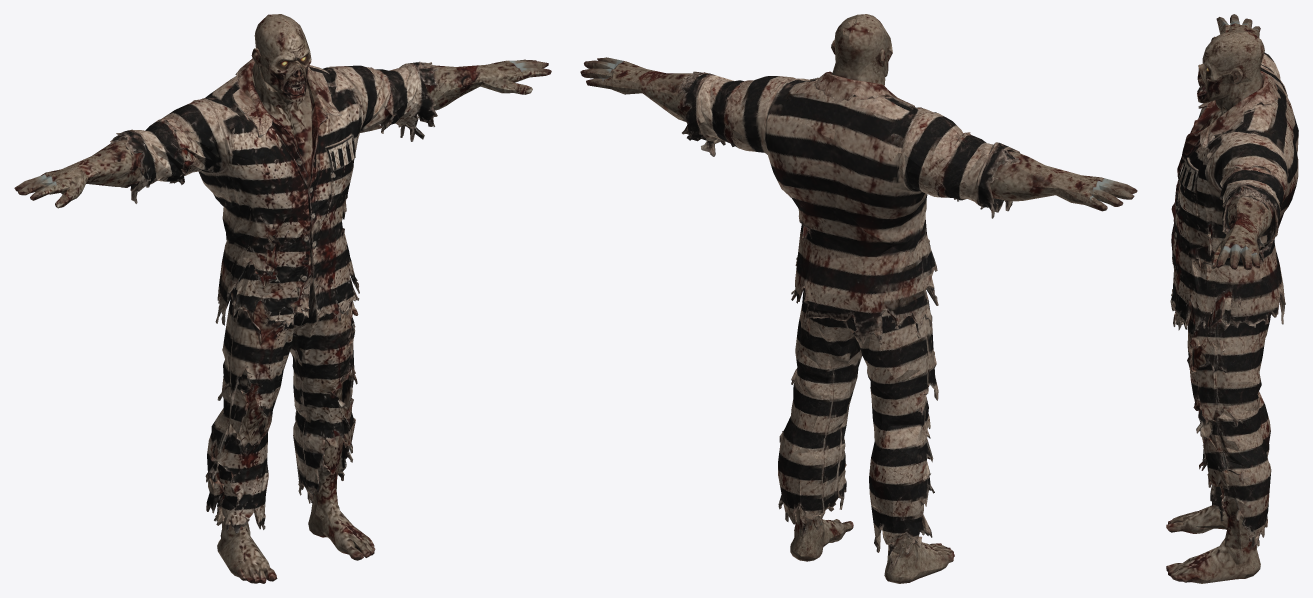
The model's file is Meshy_AI_zombie_prigione_robus_1018143330_texture.fbx.
3 views of the same model, side by side, from view 1: azimuth 30°, elevation 25°; view 2: azimuth 150°, elevation 25°; view 3: azimuth 270°, elevation 25° (orthographic). The views are drawn at different scales.
Parts seen in each view (by area): view 1: output_unwrapped; view 2: output_unwrapped; view 3: output_unwrapped.
Part boxes in pixels (box(x1,y1,x2,y2)): output_unwrapped: box(14, 14, 551, 583); output_unwrapped: box(580, 14, 1137, 583); output_unwrapped: box(1166, 14, 1298, 583).
Size of the model in its own units: 190 by 182 by 42.09.
Materials: 1 (1 with a texture image).
